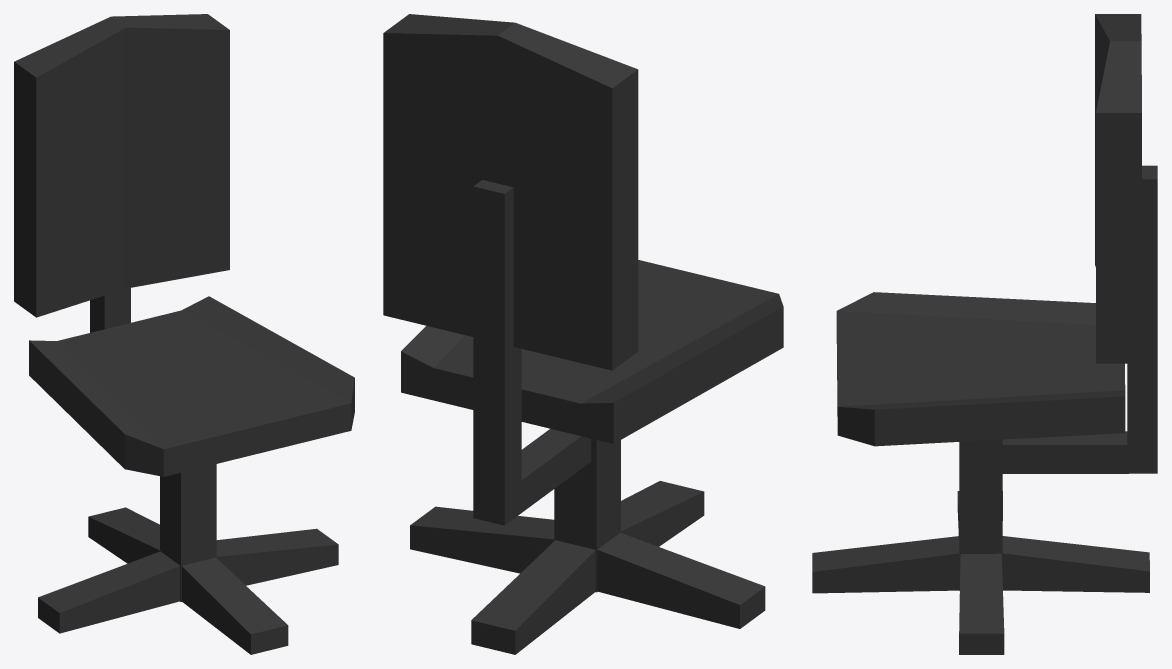
The model's file is Chair.fbx.
The picture shows the model from 3 angles, left to right: view 1: azimuth 30°, elevation 25°; view 2: azimuth 150°, elevation 25°; view 3: azimuth 270°, elevation 25°; orthographic projection. The views are drawn at different scales.
Parts seen in each view (by area): view 1: Chair.009; view 2: Chair.009; view 3: Chair.009.
Part boxes in pixels (x1,y1,x2,y2): Chair.009: (14, 14, 354, 654); Chair.009: (383, 14, 783, 654); Chair.009: (812, 14, 1157, 654).
Size of the model in its own units: 0.724 by 1.28 by 0.7408.
